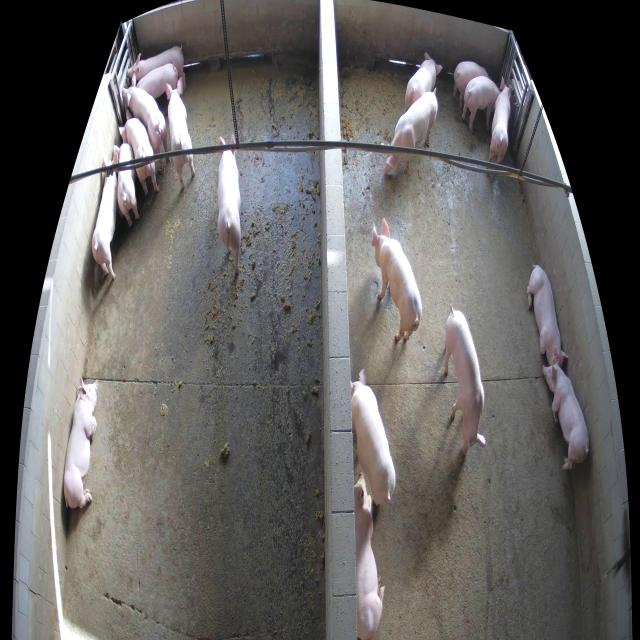pig: (445, 304, 487, 456), (350, 368, 395, 506), (372, 217, 422, 341), (542, 354, 589, 470), (354, 472, 385, 638), (384, 87, 438, 174), (64, 377, 98, 508), (123, 74, 168, 168), (527, 265, 568, 368), (92, 152, 124, 280), (119, 110, 159, 196), (166, 77, 195, 191), (218, 134, 240, 276), (128, 46, 186, 91), (114, 143, 140, 228), (404, 53, 442, 110), (462, 76, 499, 131), (489, 77, 511, 164), (454, 61, 488, 108), (136, 64, 178, 98)
